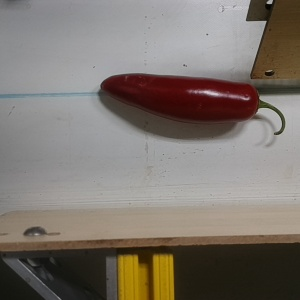Cut Point: (244, 82, 267, 121)
